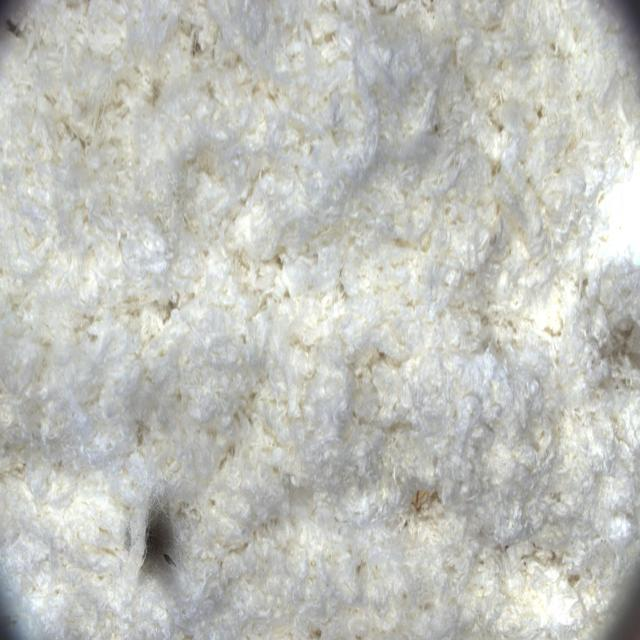dust: (102, 463, 227, 615)
